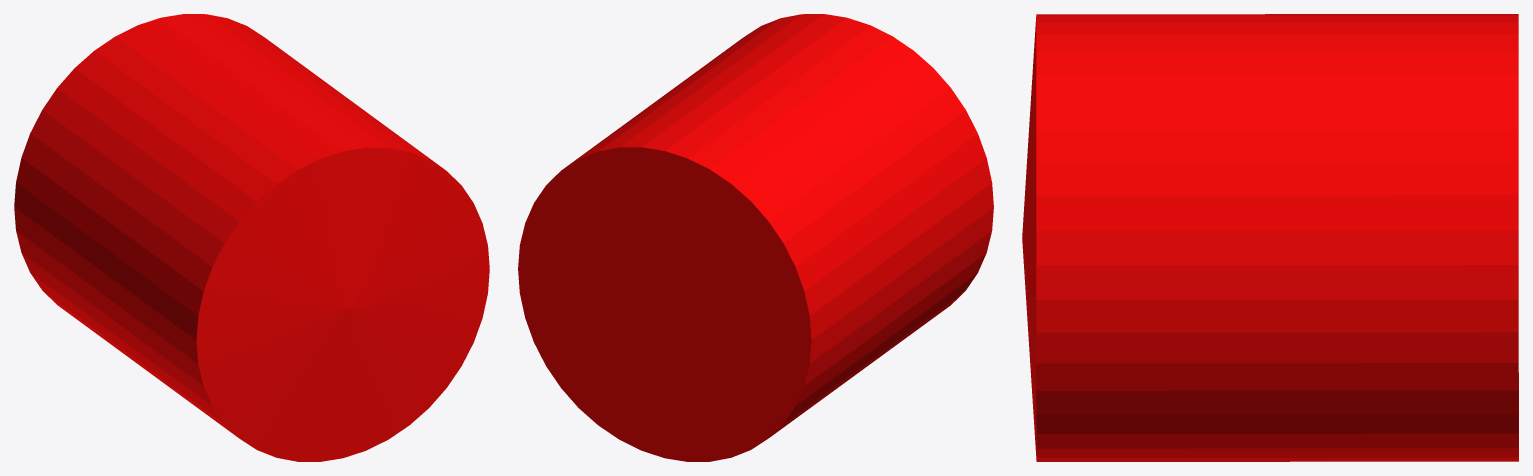
Rendered from original-118.obj.
3 views of the same model, side by side, from view 1: azimuth 30°, elevation 25°; view 2: azimuth 150°, elevation 25°; view 3: azimuth 270°, elevation 25° (orthographic). The views are drawn at different scales.
Visible parts, largest first — view 1: Group_94/mesh117/mesh117-geometry#mesh117-geometry; view 2: Group_94/mesh117/mesh117-geometry#mesh117-geometry; view 3: Group_94/mesh117/mesh117-geometry#mesh117-geometry.
Part boxes in pixels (x1,y1,x2,y2): Group_94/mesh117/mesh117-geometry#mesh117-geometry: [14, 14, 489, 461]; Group_94/mesh117/mesh117-geometry#mesh117-geometry: [518, 14, 993, 461]; Group_94/mesh117/mesh117-geometry#mesh117-geometry: [1022, 14, 1518, 461].
Bounding box in the file's own units: 0.0102 × 0.0102 × 0.0113.
